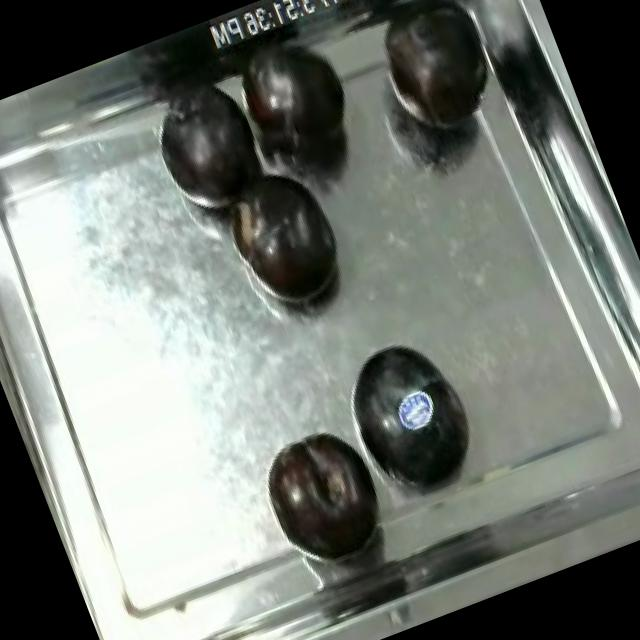Fruit: (324, 316, 494, 508), (211, 147, 365, 326), (354, 0, 517, 161), (250, 411, 402, 574), (140, 74, 280, 230)
